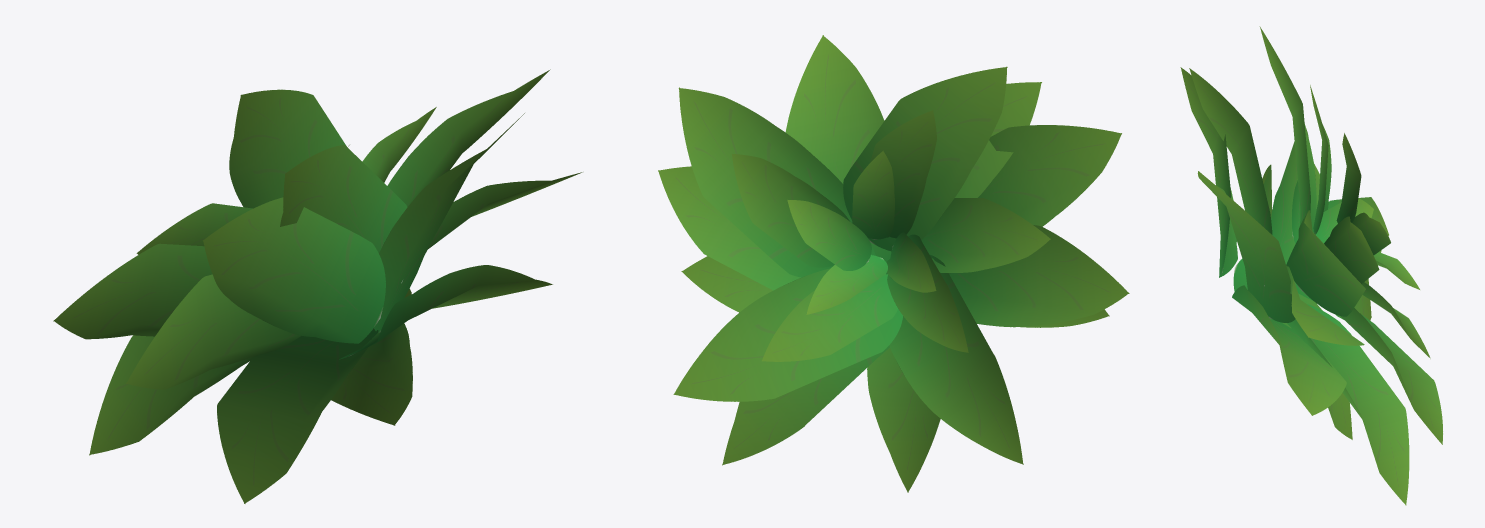
Rendered from grass.fbx.
The picture shows the model from 3 angles, left to right: view 1: azimuth 30°, elevation 25°; view 2: azimuth 150°, elevation 25°; view 3: azimuth 270°, elevation 25°; orthographic projection. The views are drawn at different scales.
Parts seen in each view (by area): view 1: Plane.001; view 2: Plane.001; view 3: Plane.001.
Part boxes in pixels (x1,y1,x2,y2): Plane.001: [53, 69, 582, 503]; Plane.001: [658, 35, 1129, 492]; Plane.001: [1180, 26, 1442, 505].
Size of the model in its own units: 118 by 104 by 64.39.
